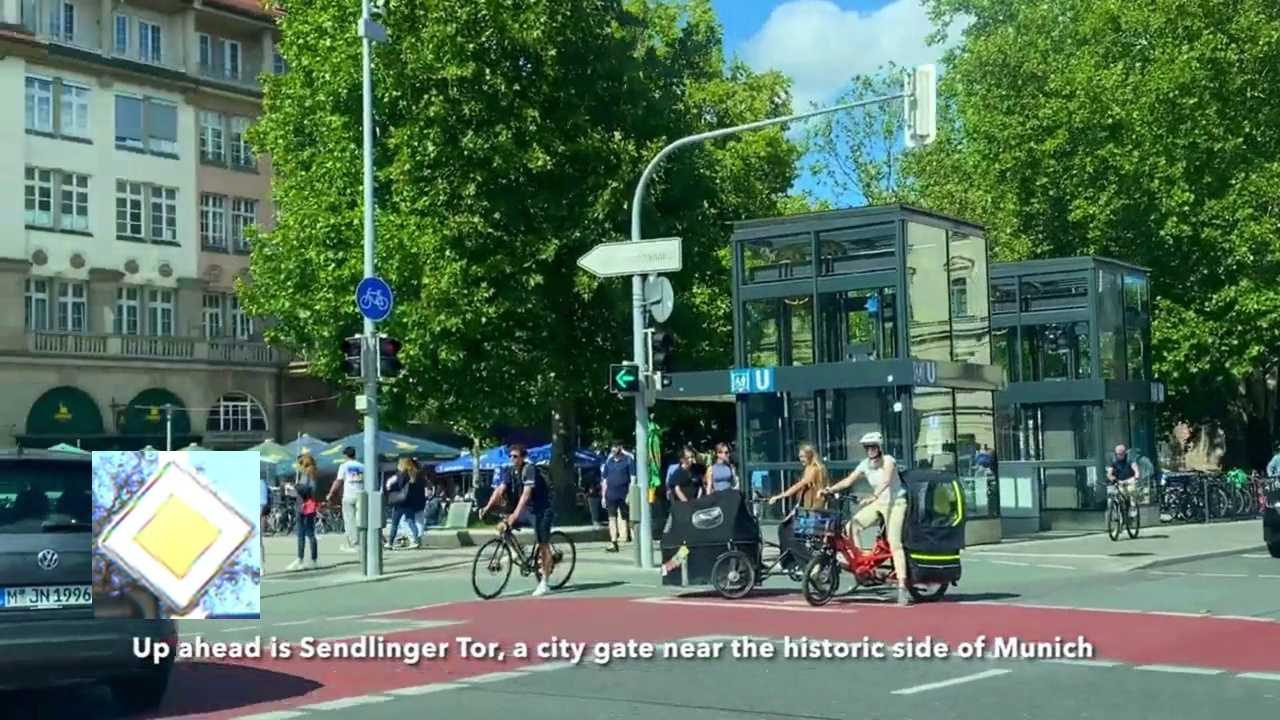Priority road: (92, 451, 260, 619)
